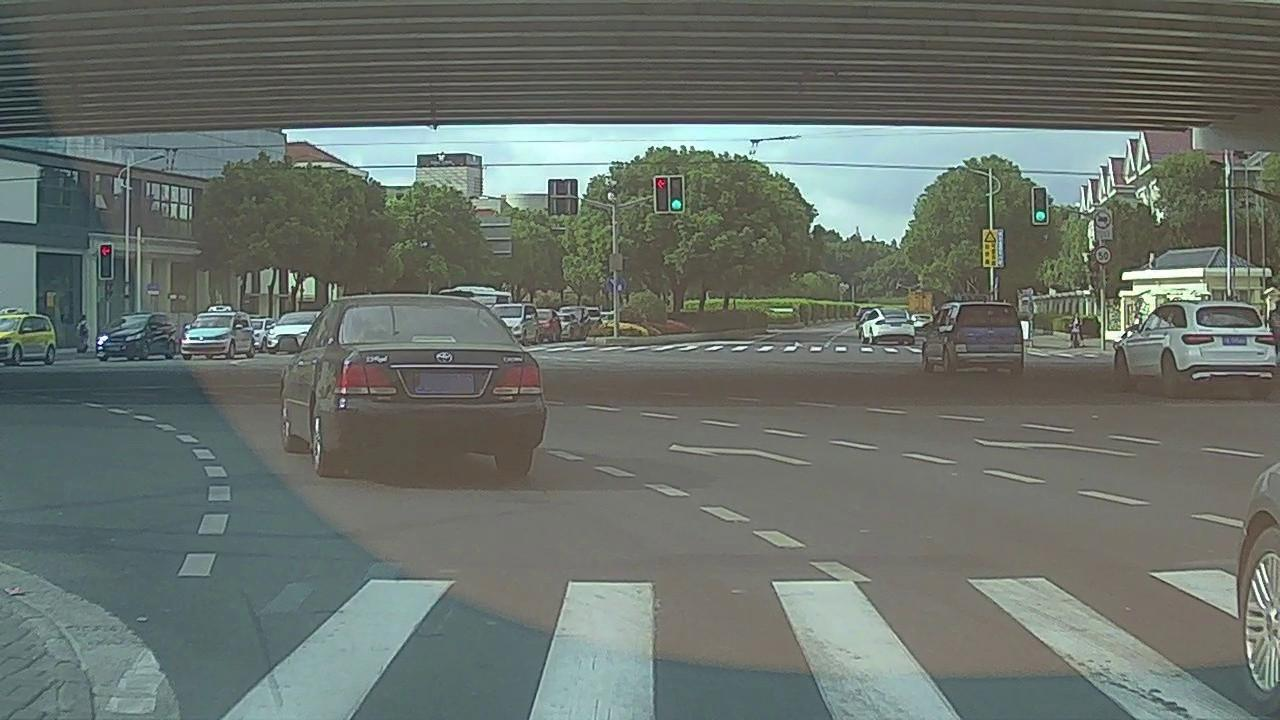traffic_light: (668, 175, 684, 212), (653, 177, 668, 211), (1034, 187, 1047, 224), (100, 244, 112, 277)
